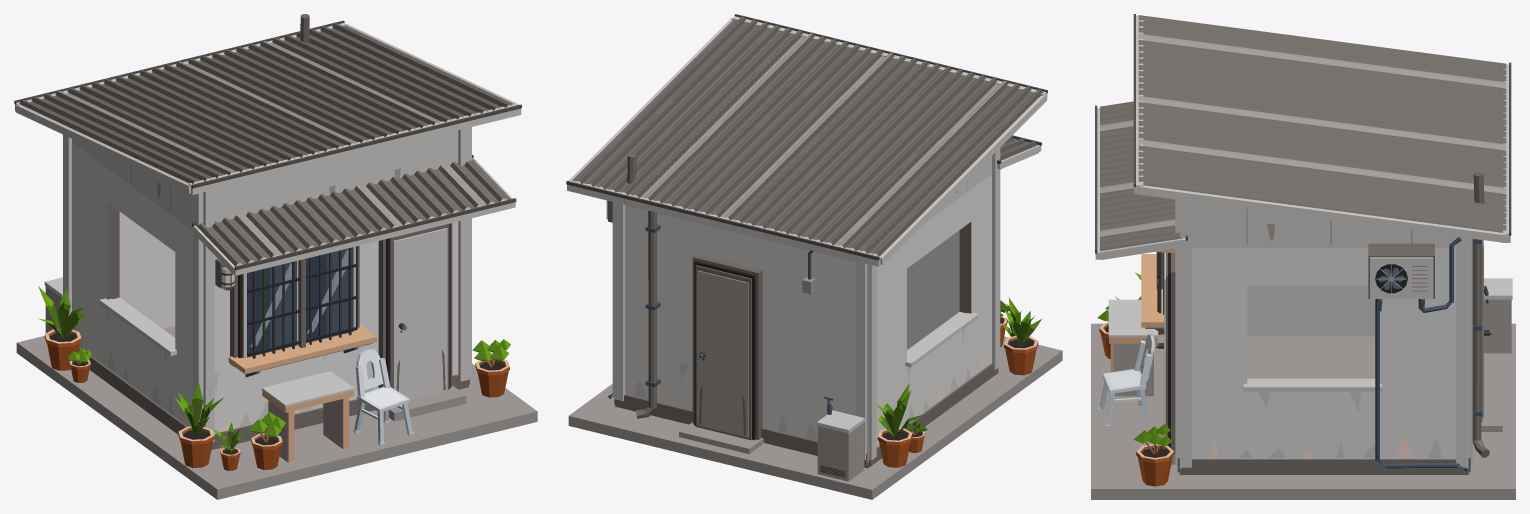
File: guardhouse.glb
3 renders of one model, left to right at view 1: azimuth 30°, elevation 25°; view 2: azimuth 150°, elevation 25°; view 3: azimuth 270°, elevation 25°, orthographic. The views are drawn at different scales.
Parts seen in each view (by area): view 1: Filipino Guardhouse 07 - Street Post; view 2: Filipino Guardhouse 07 - Street Post; view 3: Filipino Guardhouse 07 - Street Post.
Boxes of the visible parts, box(x1,y1,x2,y2) form: Filipino Guardhouse 07 - Street Post: box(14, 14, 537, 499); Filipino Guardhouse 07 - Street Post: box(566, 14, 1062, 499); Filipino Guardhouse 07 - Street Post: box(1091, 14, 1515, 499).
Bounding box in the file's own units: 4.31 × 3.62 × 4.36.
Materials: 1 (1 with a texture image).
